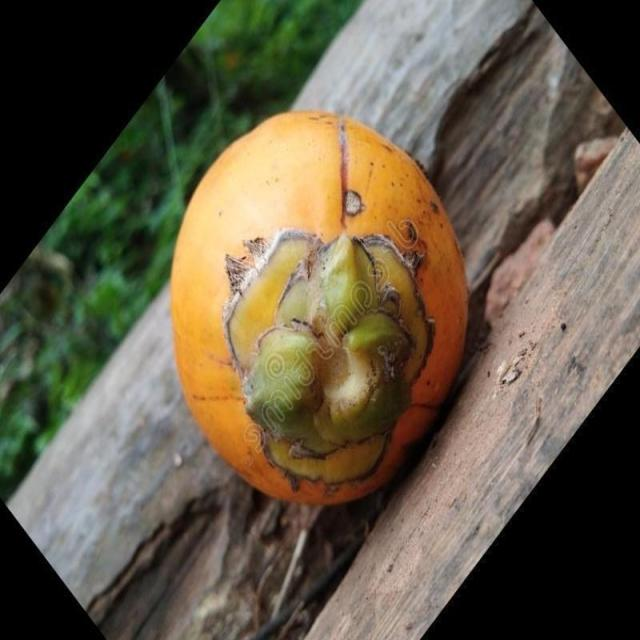good: (170, 111, 470, 506)
